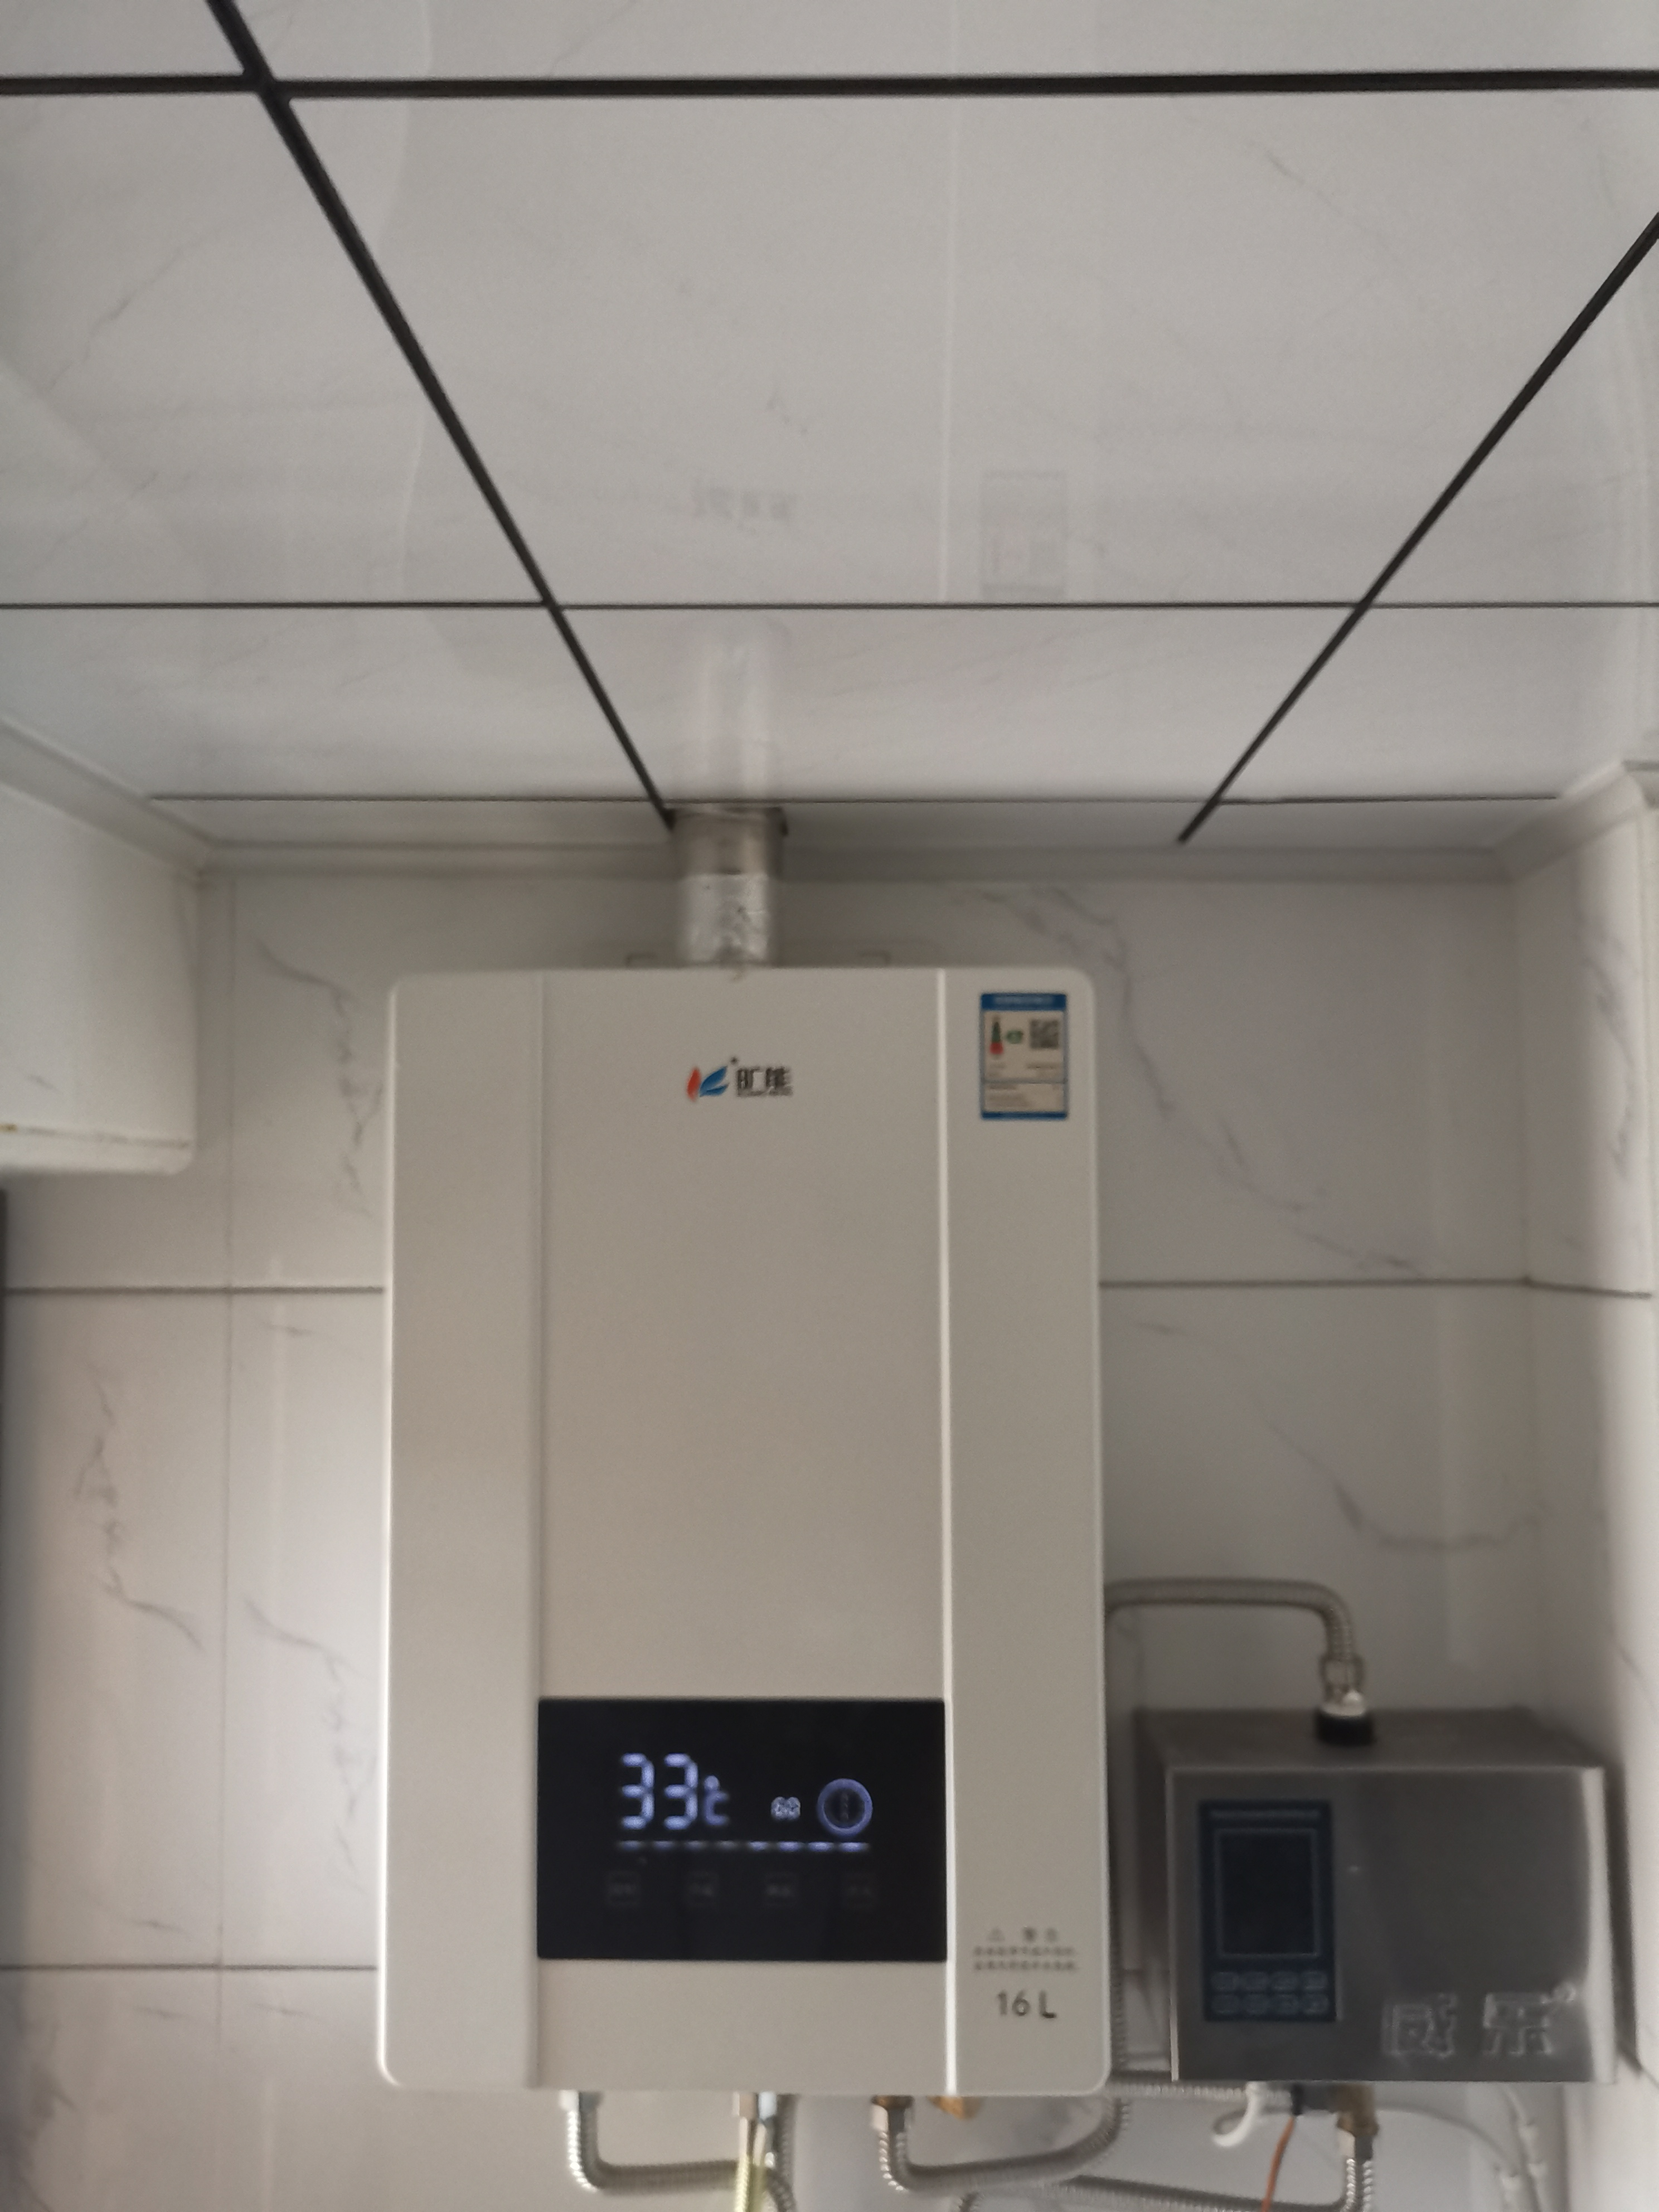loudou: (664, 1050, 809, 1109)
